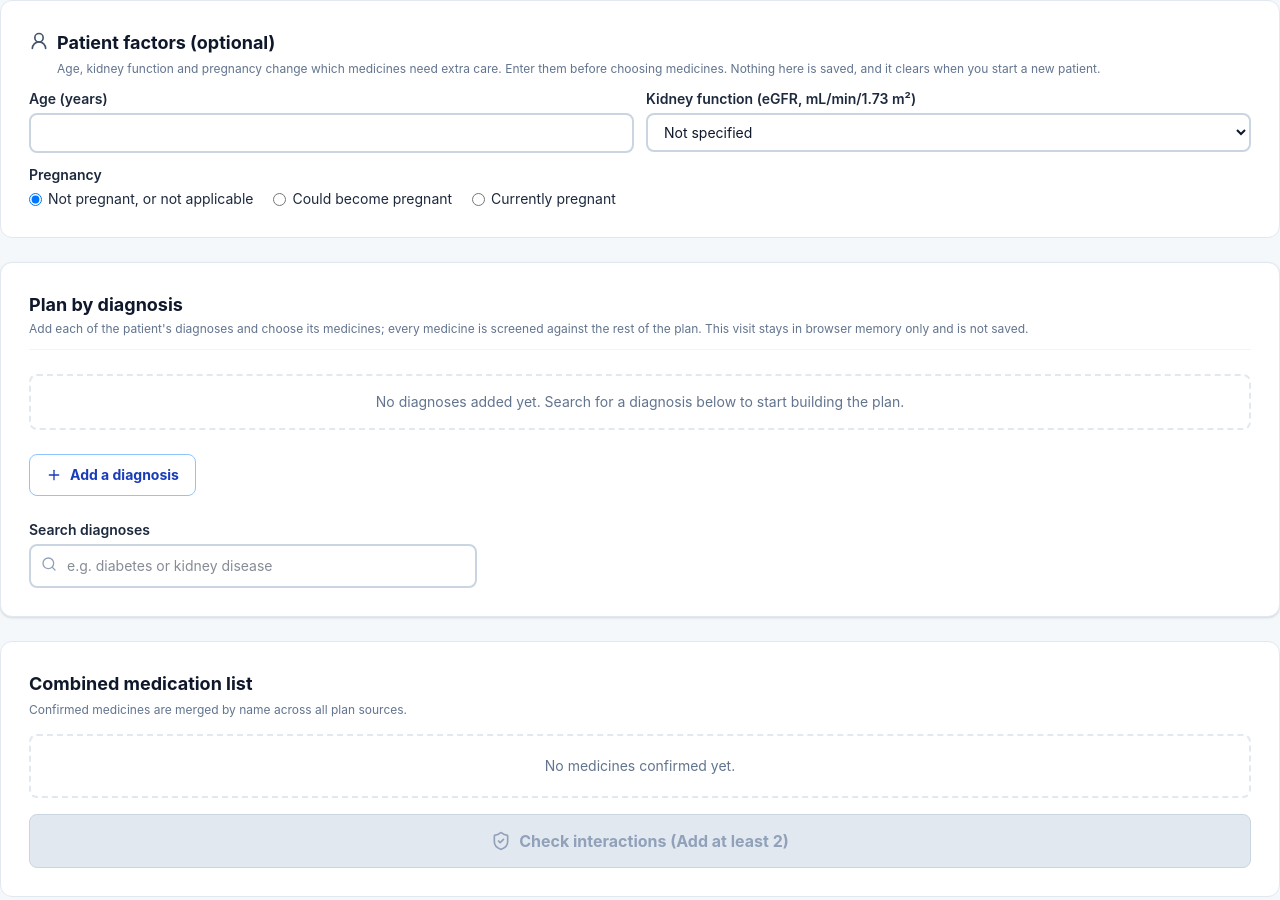
Test: clinical groups in a medicine list › shows first-line choices up front and keeps specialist options collapsed
This screenshot has width=1280, height=900.
Focus the dropdown labelled "Search diagnoses" at (253, 566), box [29, 544, 477, 588]
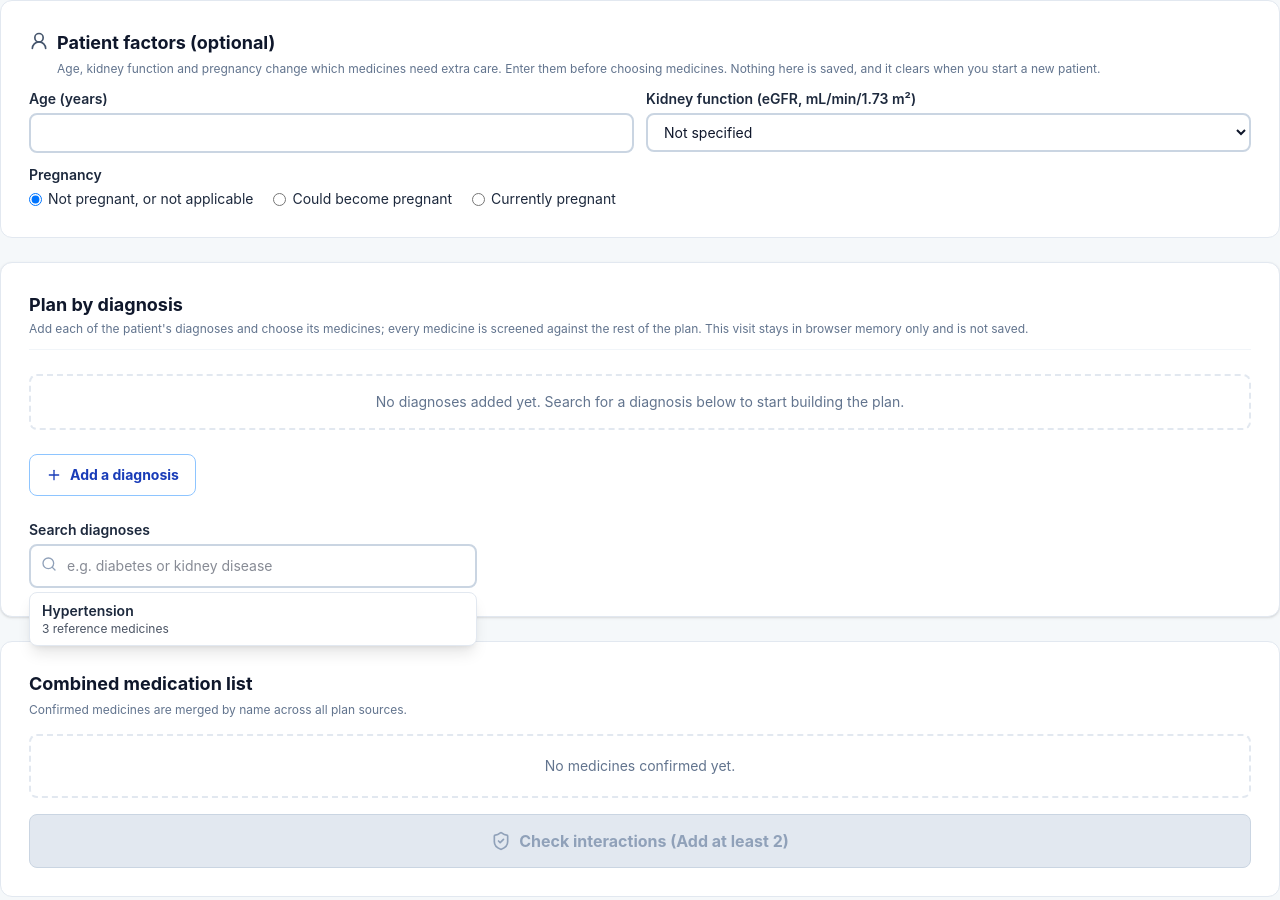
Click the option "Hypertension 3 reference medicines" at (88, 610), box [30, 593, 476, 645]
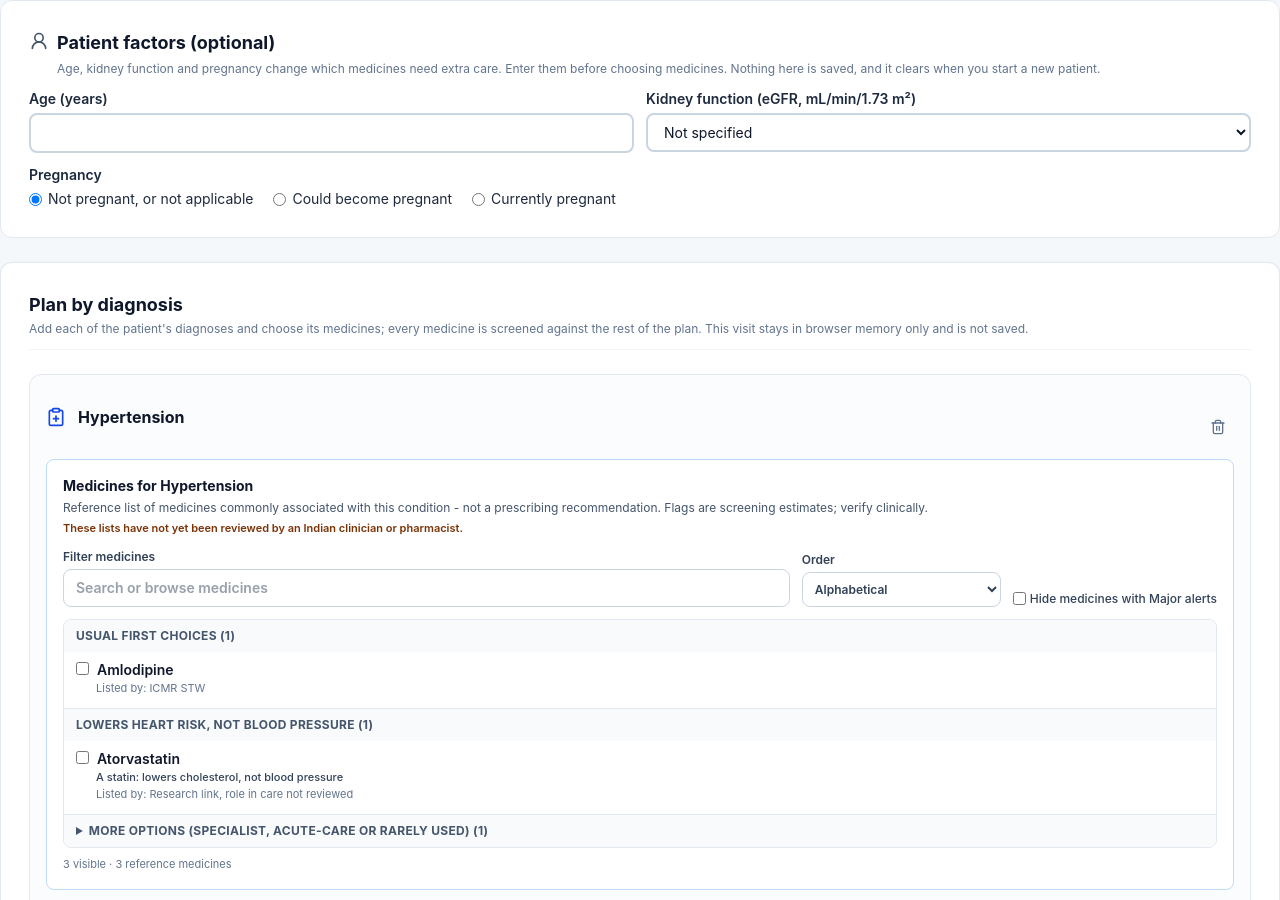
Check: the heading "Usual first choices (1)" is shown, box [64, 620, 1216, 652]
Check: the text "A statin: lowers cholesterol, not blood pressure" is shown, box [96, 770, 343, 784]
Check: the text "have not yet been reviewed by an Indian clinician or pharmacist" is shown, box [63, 521, 463, 535]
